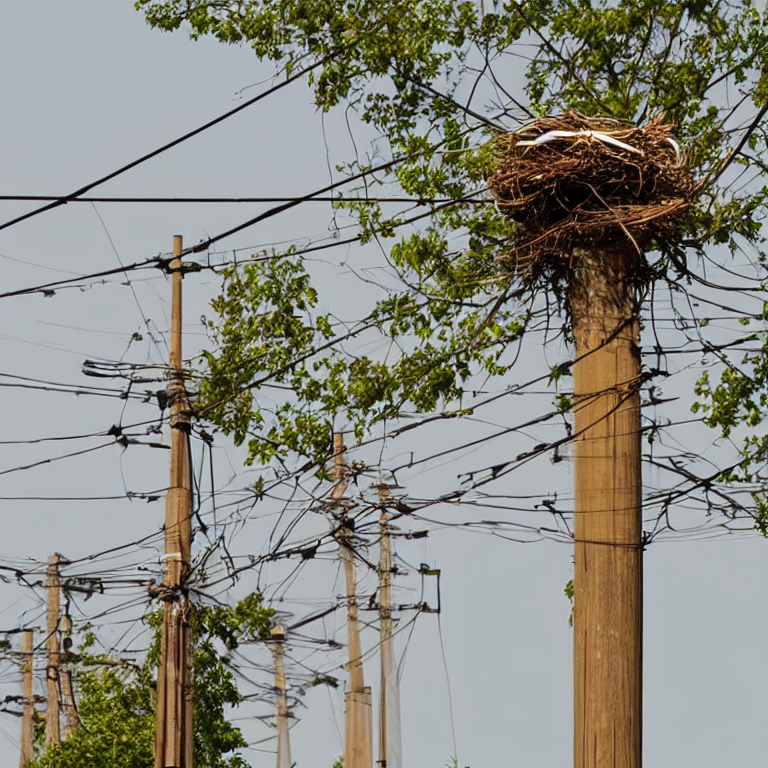nest: (499, 114, 689, 263)
